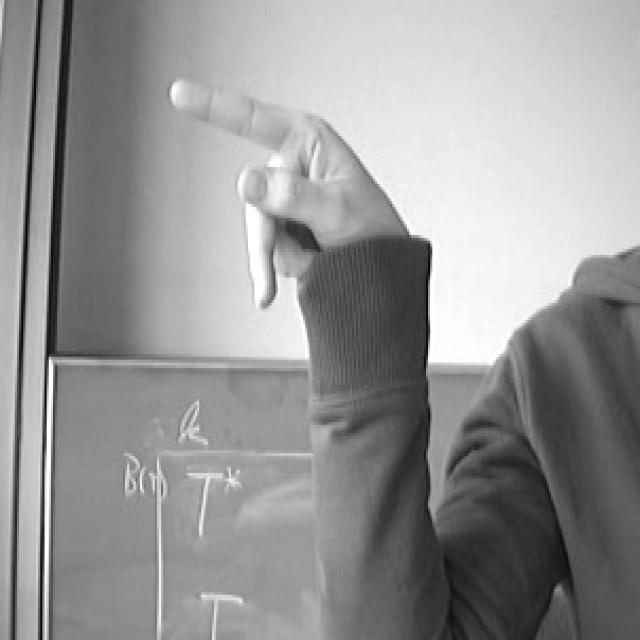P: (143, 51, 429, 348)
